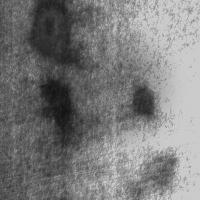patches: (59, 34, 165, 140), (7, 0, 77, 65), (28, 1, 73, 63), (41, 78, 74, 140), (133, 85, 156, 118)
